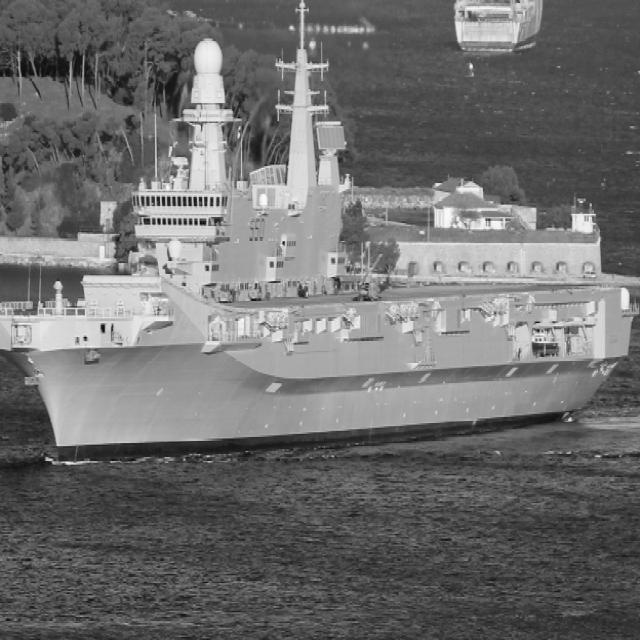Portanaves: (1, 1, 640, 479)
